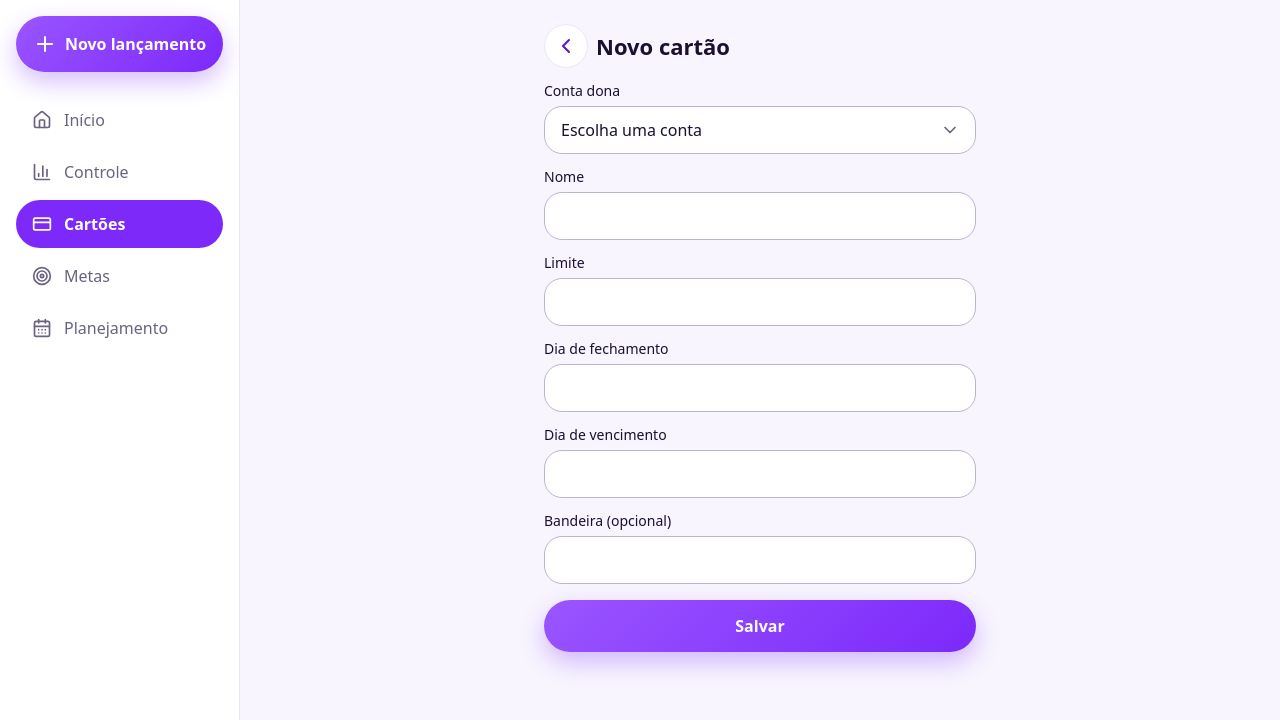
Scenario: cadastro de cartão (CA-4.01) › salva nome, conta dona, limite 5.000,00, fechamento 10 e vencimento 17 sem bandeira e volta à lista
Expected: the heading "Novo cartão" is shown, x1=596 y1=31 x2=730 y2=61
Select "Conta Conjunta" in the dropdown labelled "Conta dona" at (760, 130), box x1=544 y1=106 x2=976 y2=154
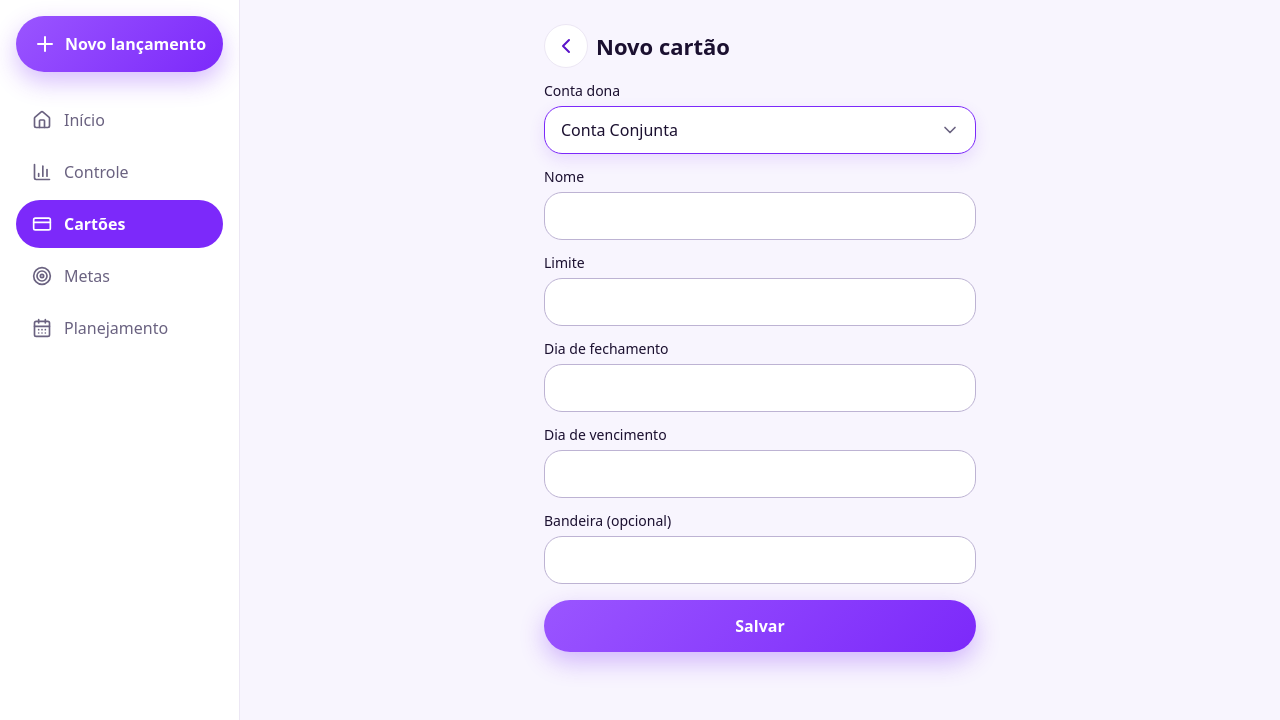
Type "Nubank" into the field labelled "Nome".
click(760, 216); type("Nubank")  # box x1=544 y1=192 x2=976 y2=240
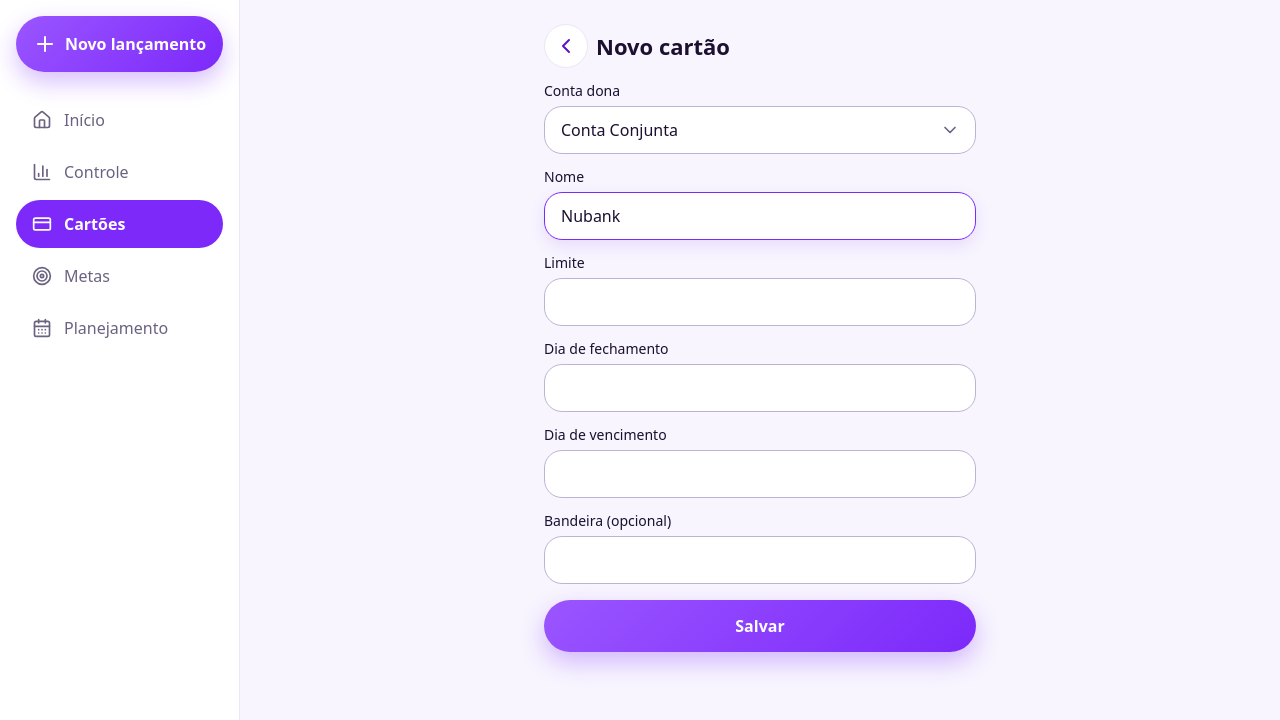
Type "500000" into the field labelled "Limite".
click(760, 302); type("500000")  # box x1=544 y1=278 x2=976 y2=326
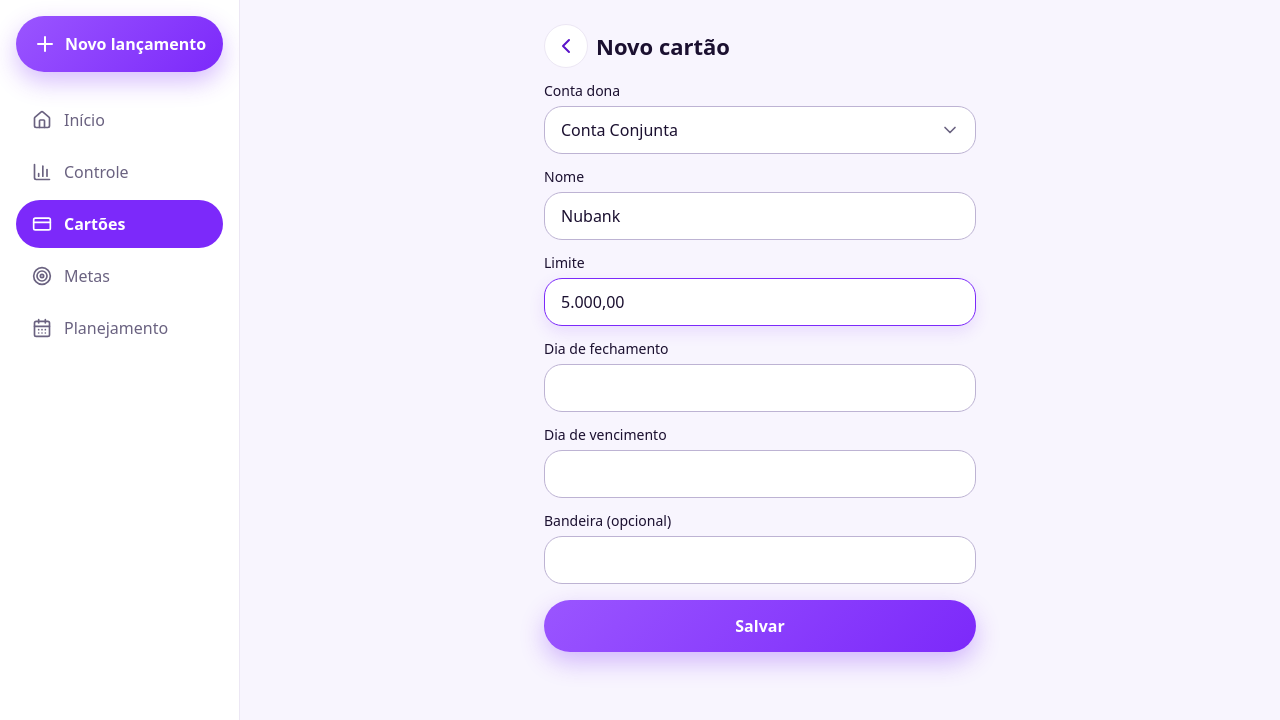
Type "10" into the field labelled "Dia de fechamento".
click(760, 388); type("10")  # box x1=544 y1=364 x2=976 y2=412
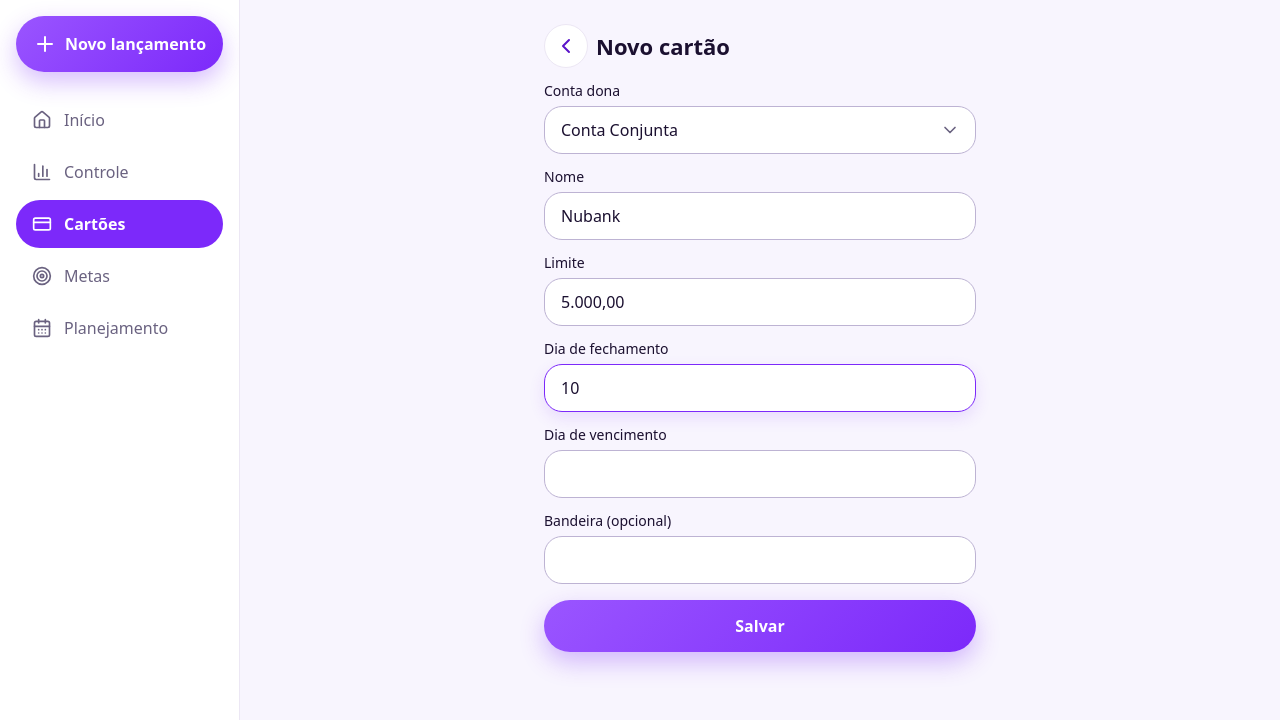
Type "17" into the field labelled "Dia de vencimento".
click(760, 474); type("17")  # box x1=544 y1=450 x2=976 y2=498
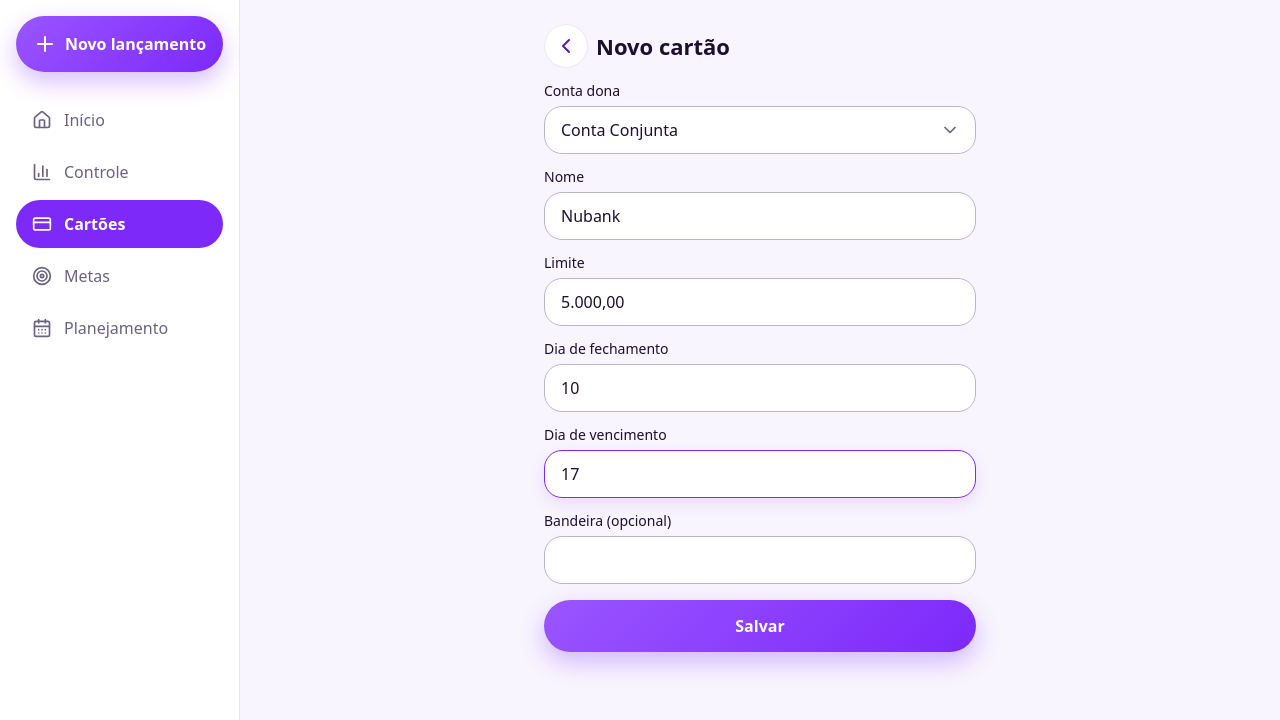
Expected: the field labelled "Limite" holds "5.000,00", x1=544 y1=278 x2=976 y2=326
Click the button "Salvar".
click(760, 626)  # box x1=544 y1=600 x2=976 y2=652
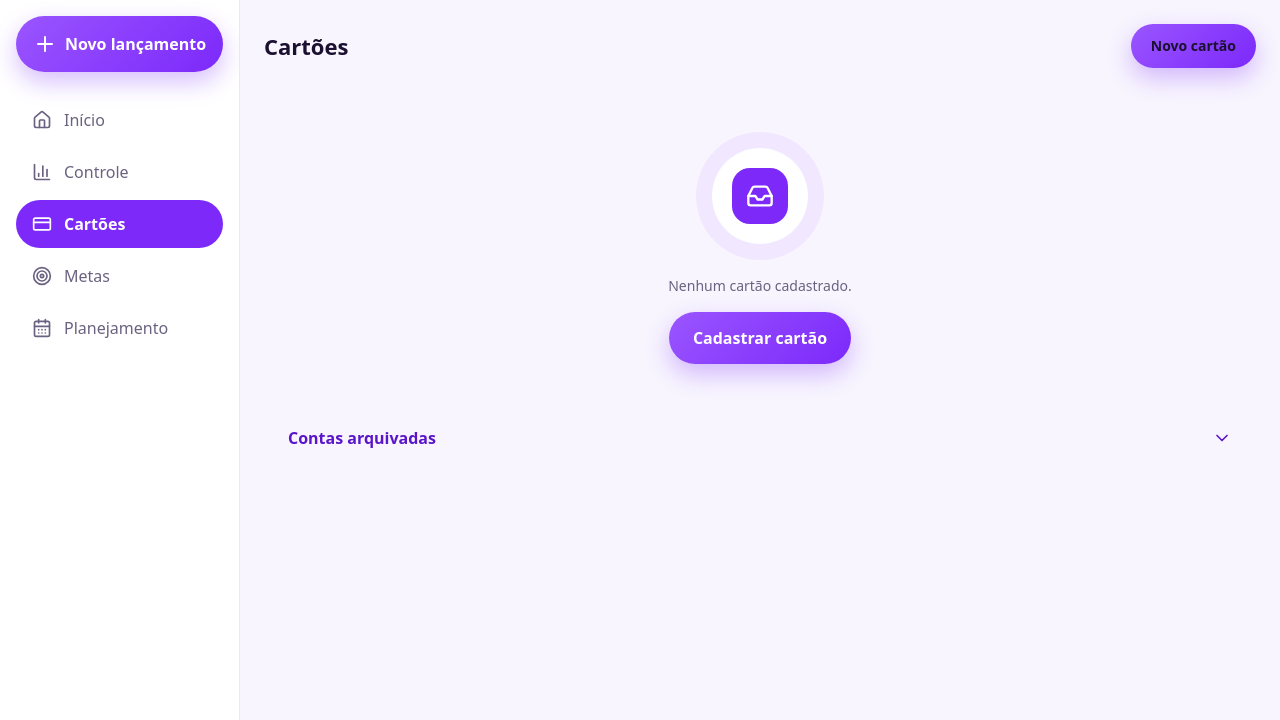
Expected: the heading "Cartões" is shown, x1=264 y1=31 x2=348 y2=61
